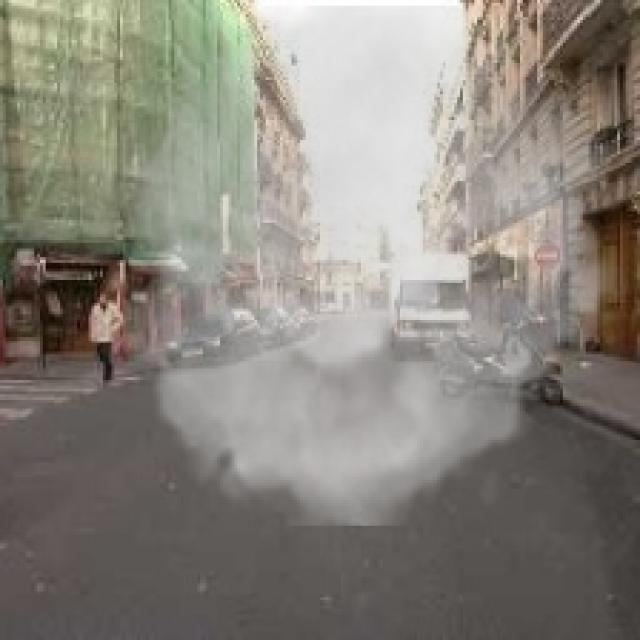Smoke: (95, 6, 634, 526)
